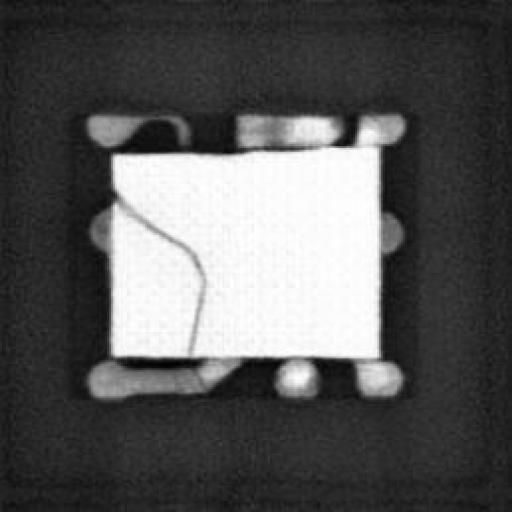DIE_INK: (117, 191, 208, 351)
